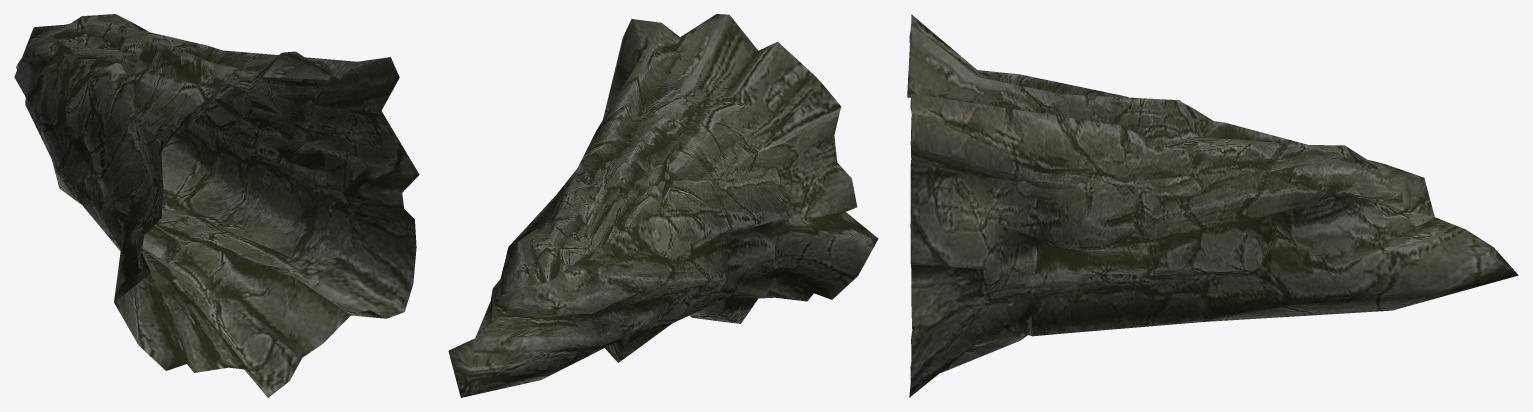
The model's file is d_rock1.FBX.
3 renders of one model, left to right at view 1: azimuth 30°, elevation 25°; view 2: azimuth 150°, elevation 25°; view 3: azimuth 270°, elevation 25°, orthographic. The views are drawn at different scales.
Parts seen in each view (by area): view 1: TI_CLiff_02_d_LOD_02; view 2: TI_CLiff_02_d_LOD_02; view 3: TI_CLiff_02_d_LOD_02.
Part boxes in pixels (left/top/right/bottom): TI_CLiff_02_d_LOD_02: left=14, top=14, right=419, bottom=397; TI_CLiff_02_d_LOD_02: left=448, top=14, right=878, bottom=397; TI_CLiff_02_d_LOD_02: left=907, top=14, right=1518, bottom=397.
Size of the model in its own units: 5.08 by 5.45 by 8.21.
